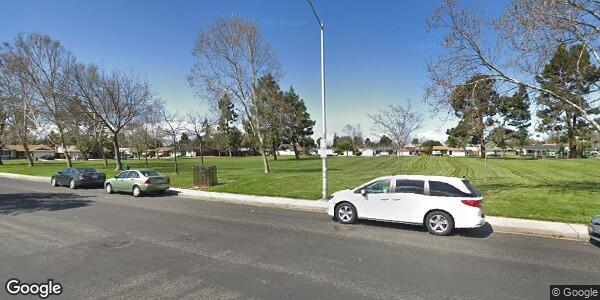Steel_Pole: (301, 1, 332, 198)
